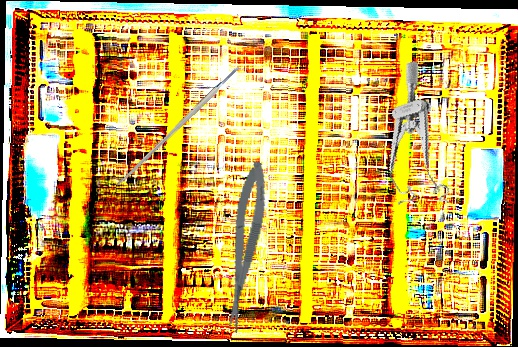Micro Scissor: (215, 159, 273, 335)
Scalpel Handle: (114, 64, 243, 189)
Speculum: (357, 60, 462, 218)
